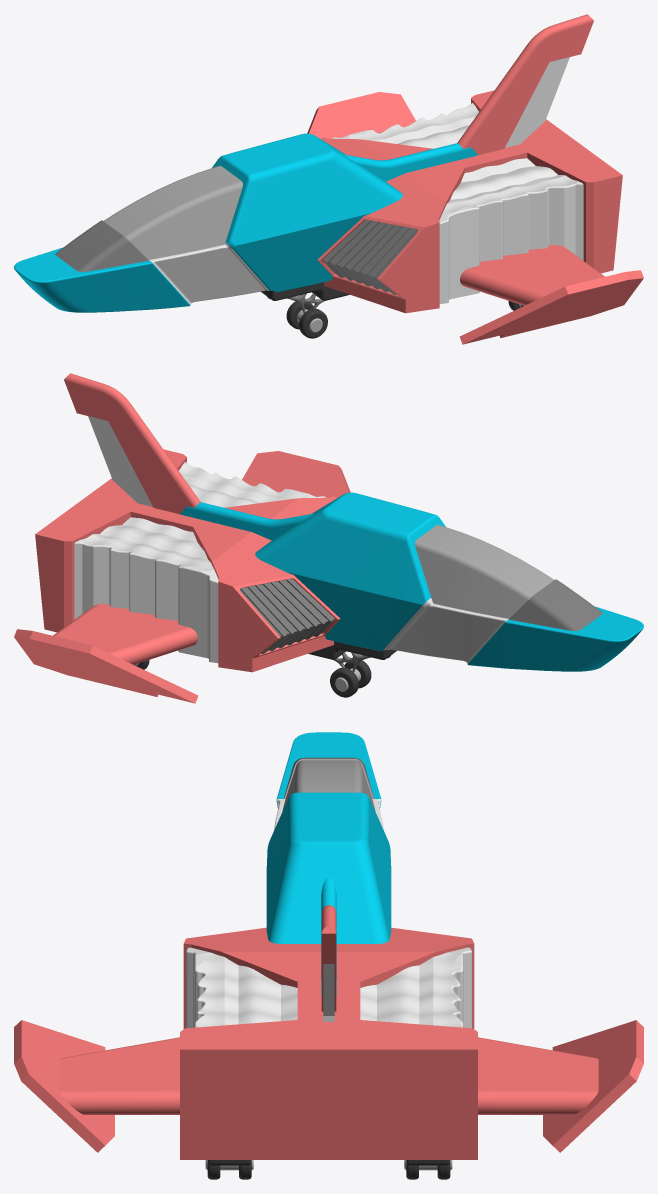
3 renders of one model, top to bottom at view 1: azimuth 30°, elevation 25°; view 2: azimuth 150°, elevation 25°; view 3: azimuth 270°, elevation 25°, orthographic. The views are drawn at different scales.
Parts seen in each view (by area): view 1: 017_CoreF_93; view 2: 017_CoreF_93; view 3: 017_CoreF_93.
Part boxes in pixels (x1,y1,x2,y2): 017_CoreF_93: (14,14,643,344); 017_CoreF_93: (14,373,643,703); 017_CoreF_93: (14,732,643,1179).
Size of the model in its own units: 0.2235 by 0.0935 by 0.1712.
